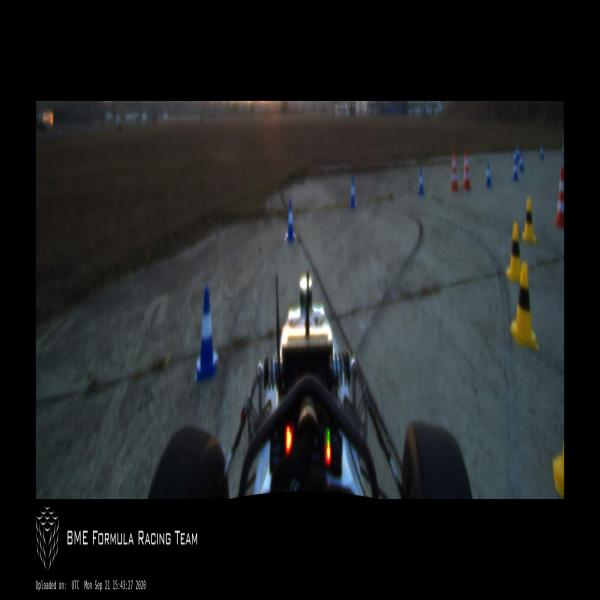blue_cone: (195, 286, 218, 381), (285, 199, 296, 241), (418, 168, 425, 195), (350, 177, 356, 208), (486, 163, 492, 187), (513, 161, 518, 181), (519, 152, 524, 172), (513, 150, 517, 164)
large_orange_cone: (554, 167, 564, 227), (450, 151, 458, 190), (463, 150, 471, 189)
yellow_cone: (510, 263, 539, 349), (506, 223, 521, 281), (522, 198, 537, 243)
